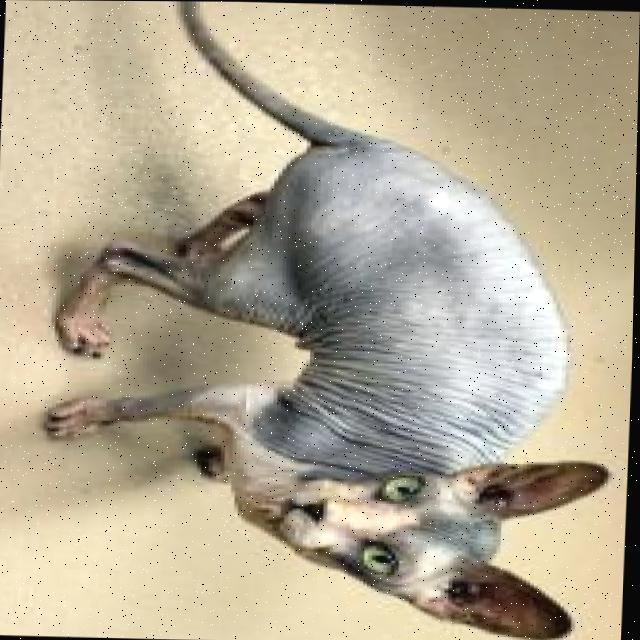Sphynx: (34, 0, 638, 640)
